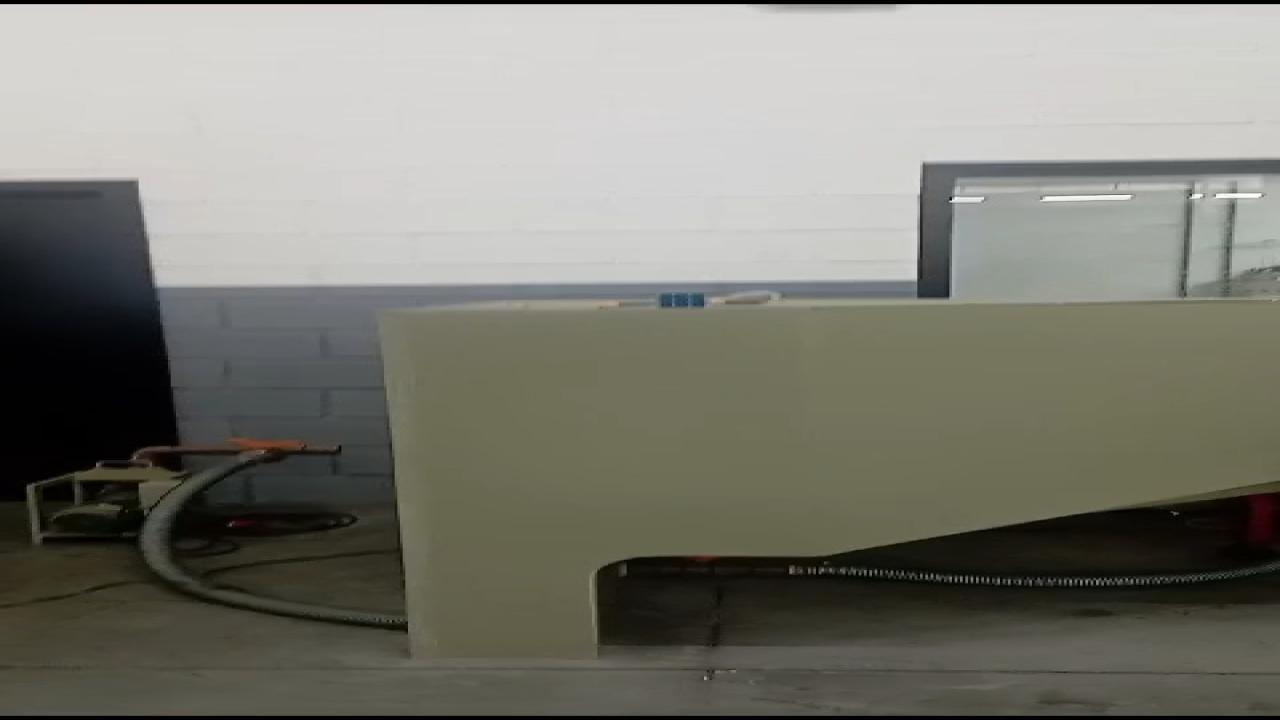Cube: (656, 292, 711, 308)
